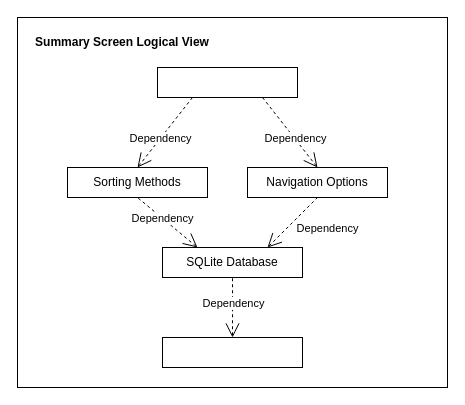
This 465x405 diagram has some shape labels left out. The centre of each missing label's shape, as x and y in pixels:
"Client Server Services" goes at (x=232, y=352).
"Display/User Interface" goes at (x=227, y=82).
